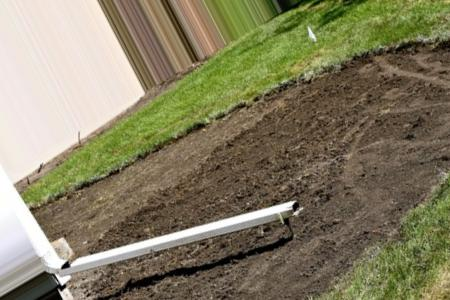patch: (188, 151, 324, 180), (350, 126, 427, 175), (208, 250, 300, 284), (73, 196, 215, 216), (321, 183, 405, 204), (305, 94, 401, 112), (225, 124, 338, 139), (360, 69, 440, 89), (304, 210, 345, 243), (138, 271, 198, 289), (73, 223, 128, 241), (310, 251, 342, 277), (136, 169, 169, 186), (47, 207, 60, 233)
